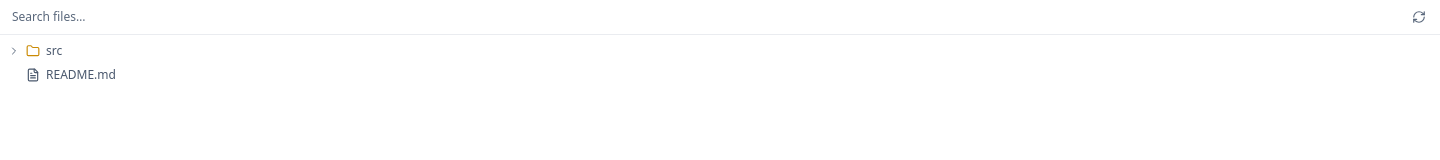
Test: FileExplorer › renders the root file tree and expands folders on click
Expected: the text "README.md" is shown, [46,67,116,83]
What coordinates should you click on to do the following:
click the text "src"
I would click on:
 (54, 51)
Its box is [46,43,62,59].
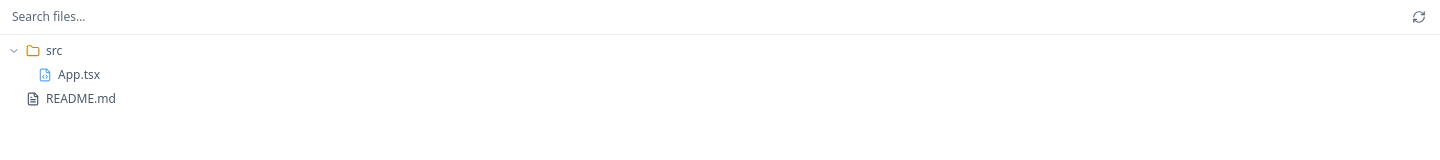
Now the text "App.tsx" is shown, box [58,67,100,83]
